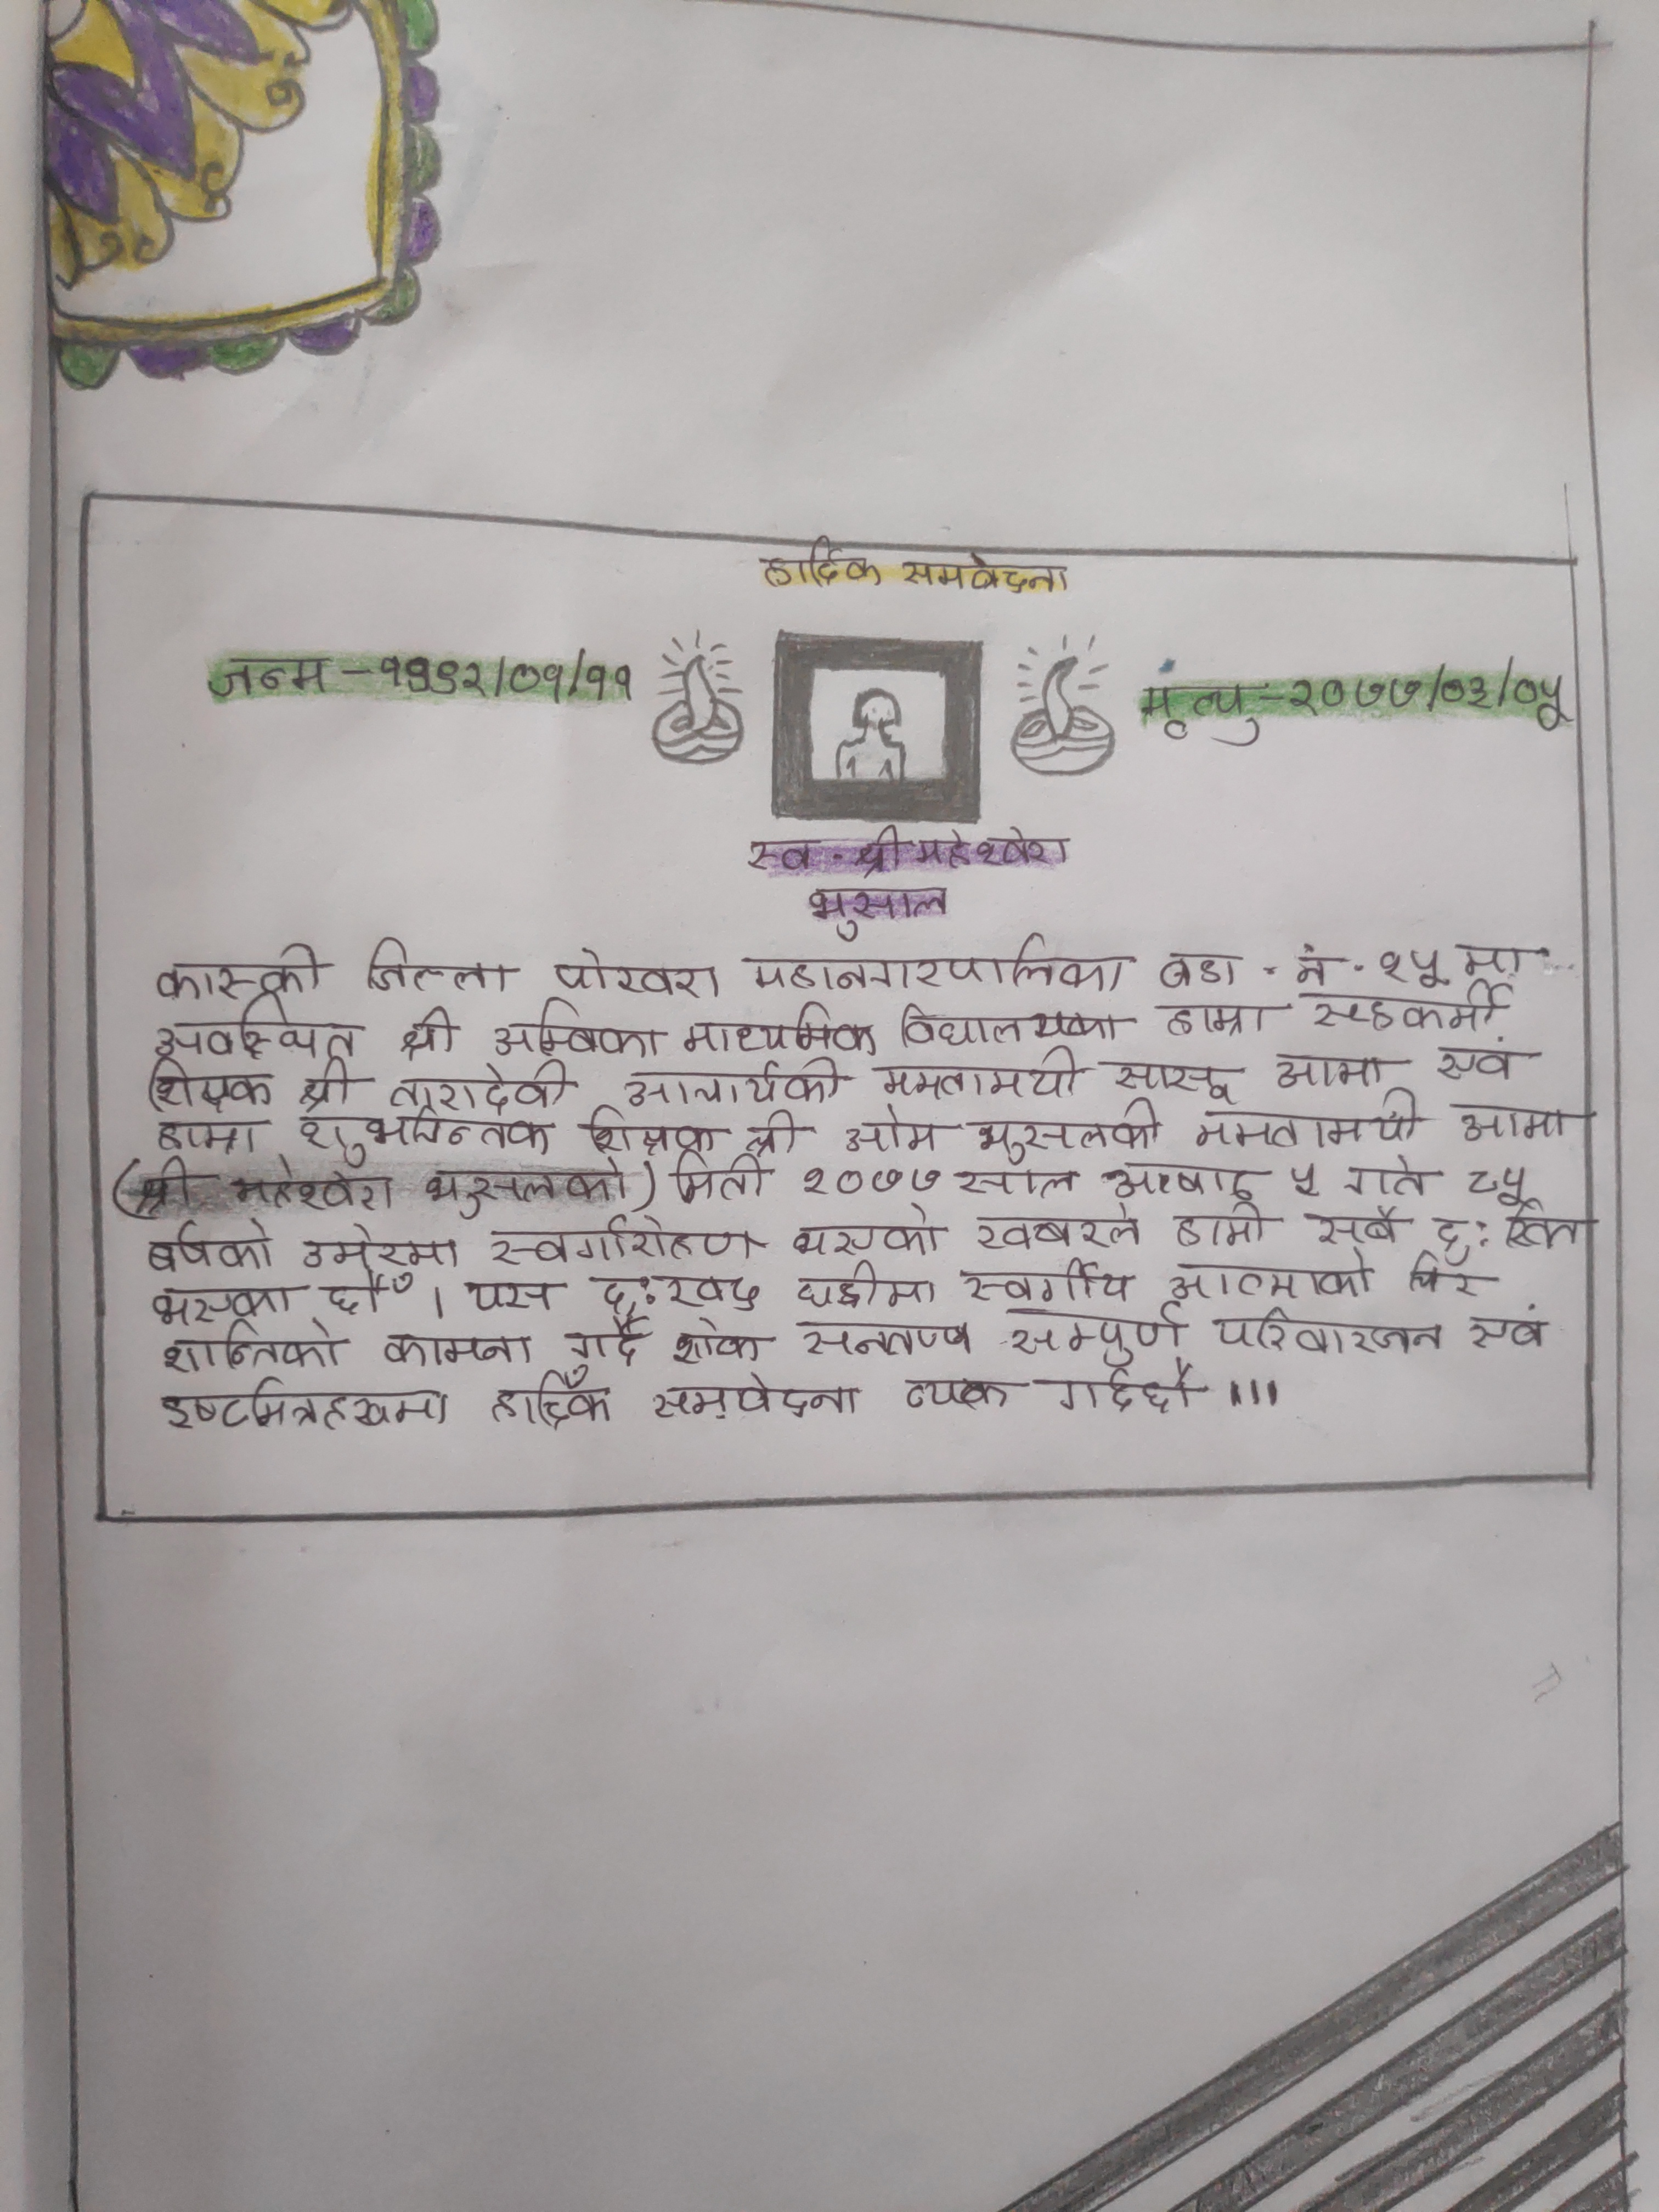text: (742, 930, 1140, 998), (1288, 669, 1570, 735), (153, 1378, 450, 1435), (373, 646, 645, 707), (483, 1209, 765, 1266), (1188, 1092, 1424, 1153), (882, 993, 1131, 1049), (150, 998, 366, 1061), (965, 1097, 1169, 1163), (1211, 1303, 1445, 1359), (295, 1115, 554, 1163), (420, 1158, 633, 1217), (674, 1001, 880, 1061), (1002, 1303, 1188, 1367), (150, 939, 335, 1000), (1310, 981, 1511, 1036), (615, 1064, 854, 1109), (1168, 1249, 1377, 1299), (361, 932, 518, 998), (875, 1052, 1086, 1101), (551, 942, 727, 1000), (159, 1322, 345, 1376), (640, 1379, 861, 1425), (491, 1003, 666, 1061), (387, 1061, 573, 1113), (1039, 1362, 1206, 1420), (788, 1312, 974, 1360), (897, 543, 1077, 594), (974, 1202, 1150, 1252), (953, 1259, 1134, 1308), (1140, 678, 1265, 747), (1429, 1207, 1586, 1263), (295, 1219, 465, 1270), (809, 883, 958, 941), (488, 1367, 617, 1433), (789, 1207, 945, 1261), (784, 1259, 941, 1312), (751, 533, 884, 594), (589, 1264, 755, 1313), (139, 1217, 277, 1275), (134, 1061, 277, 1113), (230, 1169, 396, 1212), (146, 1275, 296, 1322), (1098, 1160, 1263, 1202), (667, 1148, 769, 1214), (378, 1327, 532, 1371), (580, 1111, 716, 1160), (910, 831, 1079, 869), (1450, 1094, 1574, 1146), (206, 650, 329, 700), (1155, 989, 1279, 1040), (125, 1146, 206, 1223), (840, 1103, 946, 1158), (1112, 1054, 1234, 1101), (796, 1162, 945, 1200), (1338, 1150, 1439, 1202), (950, 1162, 1080, 1202), (897, 1371, 1018, 1414), (150, 1115, 263, 1160), (673, 1312, 762, 1369), (1175, 1204, 1272, 1252), (563, 1310, 650, 1364), (1272, 1049, 1387, 1089), (1304, 1204, 1403, 1249), (1466, 1308, 1551, 1360), (1429, 1040, 1525, 1085), (396, 995, 457, 1064), (460, 1278, 563, 1318), (1406, 1261, 1490, 1310), (1373, 941, 1448, 993), (293, 1054, 361, 1109), (1459, 1160, 1532, 1209), (744, 831, 824, 874), (322, 1263, 389, 1315), (1155, 949, 1241, 988), (744, 1108, 812, 1155), (1457, 942, 1542, 979), (852, 826, 910, 873), (1281, 1155, 1330, 1204), (1290, 942, 1335, 991)
